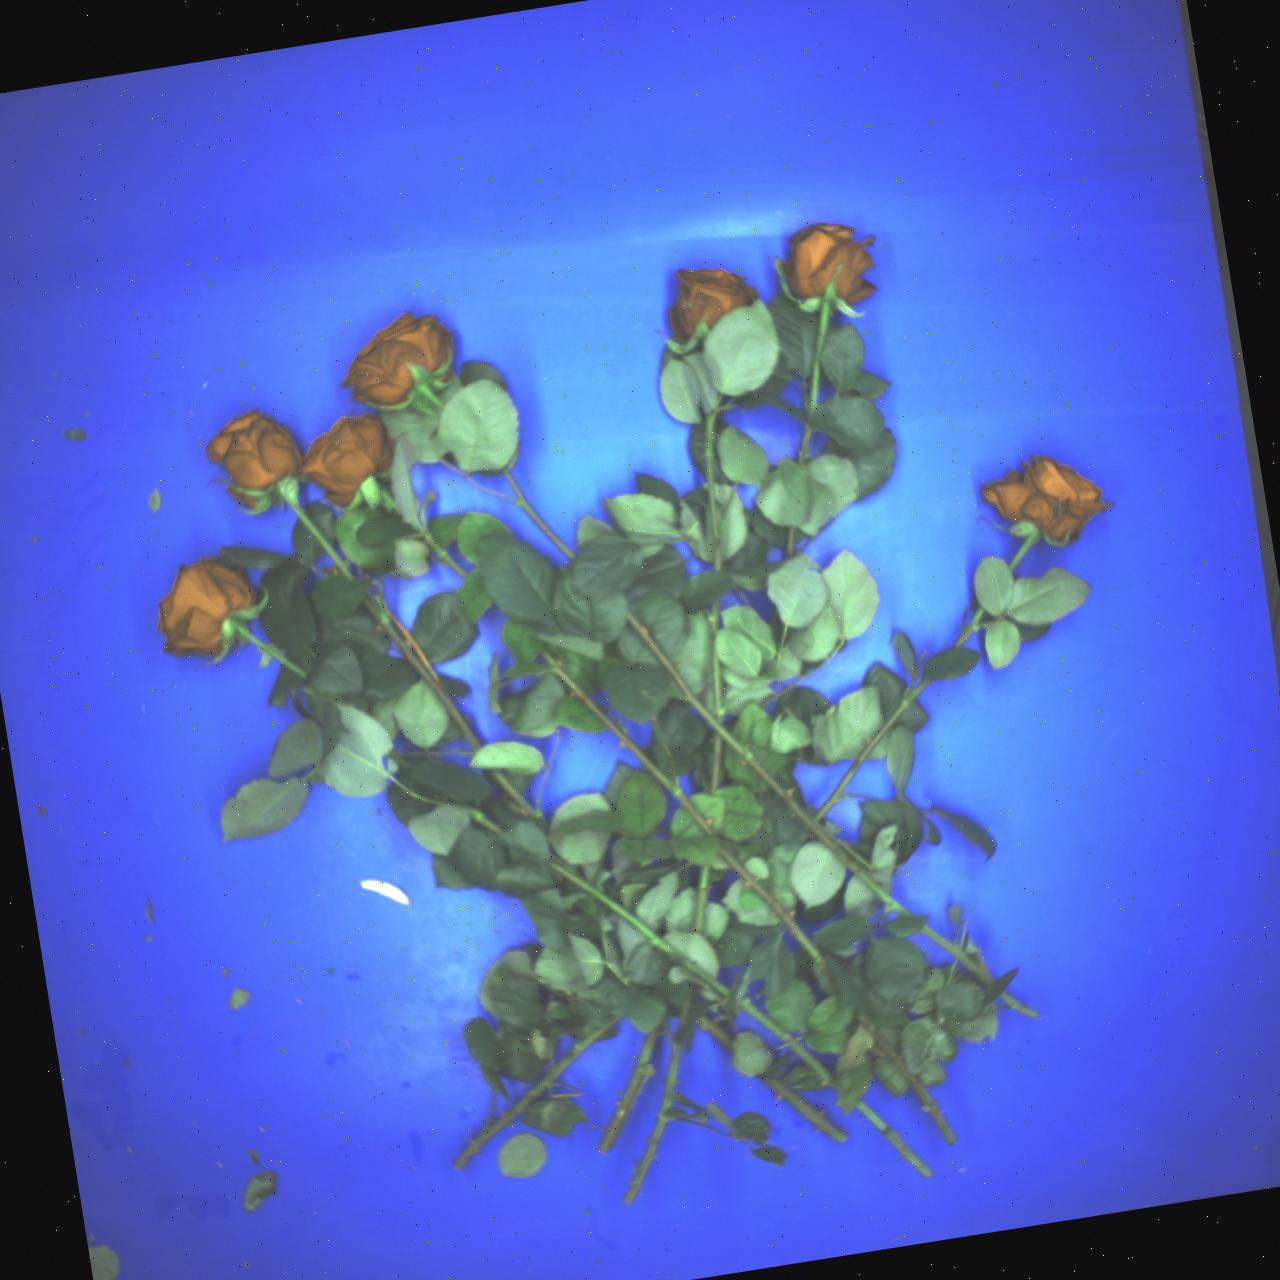Stem: (615, 612, 912, 927), (535, 647, 722, 840), (450, 1006, 627, 1171), (546, 856, 731, 1001), (353, 592, 488, 754), (714, 838, 846, 990), (811, 673, 932, 823), (624, 982, 699, 1207), (853, 1005, 960, 1150), (595, 1020, 667, 1156), (496, 465, 577, 565), (755, 1068, 850, 1145), (855, 1099, 934, 1180), (284, 493, 355, 583), (919, 924, 996, 988), (485, 762, 547, 832), (237, 625, 307, 680), (803, 301, 832, 424), (703, 411, 723, 571), (738, 999, 794, 1044), (448, 795, 505, 837), (422, 531, 469, 580), (790, 1040, 835, 1084), (949, 607, 989, 652), (695, 1014, 740, 1053), (710, 598, 722, 726), (998, 989, 1041, 1023), (1006, 533, 1039, 572), (692, 866, 709, 932), (707, 733, 726, 794), (797, 425, 815, 465), (384, 748, 411, 772), (784, 527, 797, 560)
flower: (333, 295, 474, 434), (974, 431, 1116, 566), (137, 539, 267, 678), (292, 399, 409, 513), (200, 396, 315, 511), (646, 241, 762, 346), (781, 220, 880, 306)
